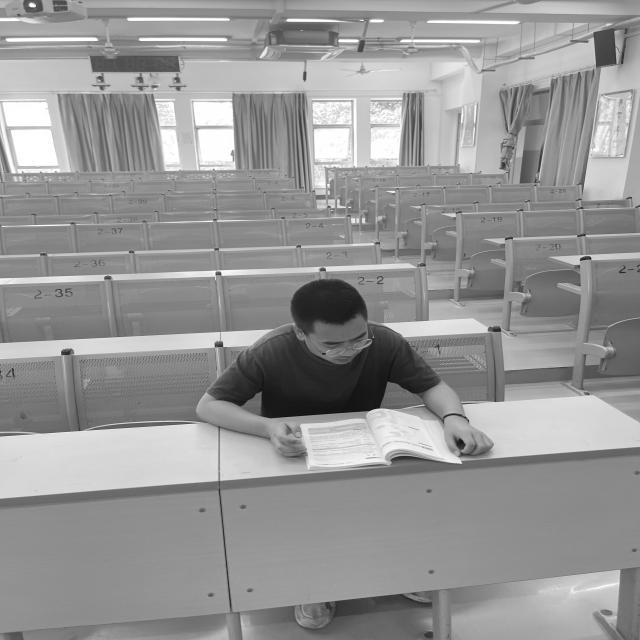study: (196, 279, 495, 464)
